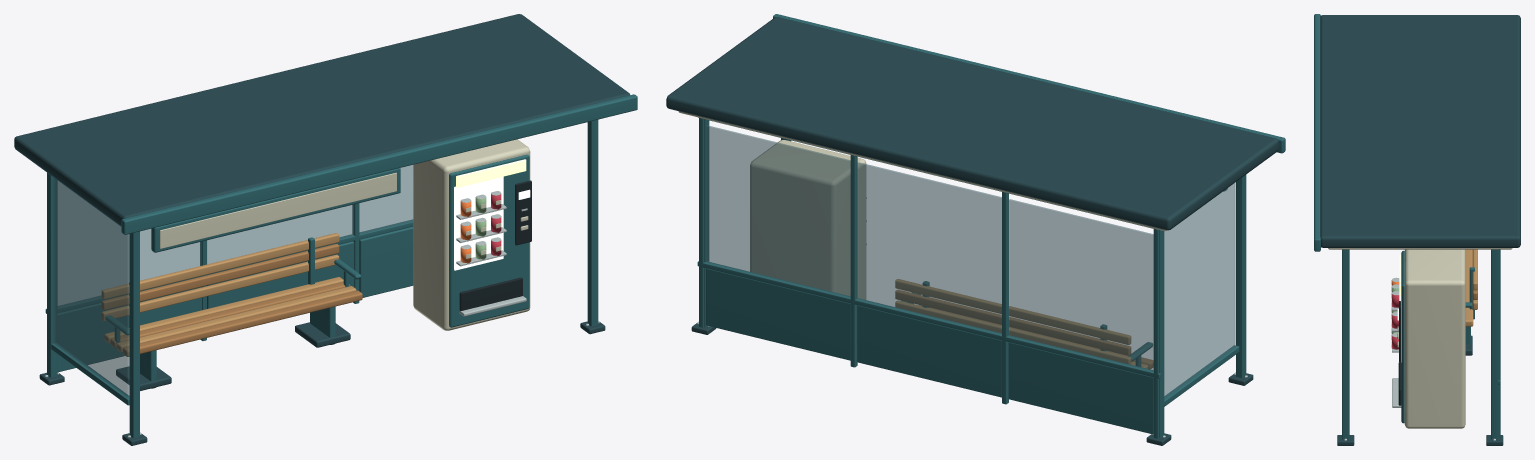
Rendered from shelter.glb.
3 views of the same model, side by side, from view 1: azimuth 30°, elevation 25°; view 2: azimuth 150°, elevation 25°; view 3: azimuth 270°, elevation 25° (orthographic). The views are drawn at different scales.
Visible parts, largest first — view 1: Floating roof cap, Left side smoked glass, Front gutter, Rear glass, Vending enamel cabinet, Vending teal fascia, Route sign cream face, Rear lower panel, Rear glass.001, Rear lower panel.002, Cedar seat slat.003, Steel column.003 (+19 smaller); view 2: Floating roof cap, Rear glass, Rear glass.001, Rear glass.002, Vending enamel cabinet, Left side smoked glass, Rear lower panel, Rear lower panel.002, Rear lower panel.001, Rear middle rail, Cedar back slat.002, Cedar back slat.001 (+11 smaller); view 3: Floating roof cap, Vending enamel cabinet, Front gutter, Steel column.003, Steel column.002, Vending teal fascia, Rear mullion.003, Cedar seat slat, Cream soffit, Cedar back slat.002, Collection lip.
Boxes of the visible parts, bbox=[...] form: Floating roof cap: bbox=[14, 14, 630, 226]; Left side smoked glass: bbox=[53, 177, 129, 397]; Front gutter: bbox=[121, 94, 637, 234]; Rear glass: bbox=[58, 181, 201, 307]; Vending enamel cabinet: bbox=[413, 139, 530, 330]; Vending teal fascia: bbox=[449, 154, 529, 327]; Route sign cream face: bbox=[160, 172, 396, 248]; Rear lower panel: bbox=[57, 287, 201, 372]; Rear glass.001: bbox=[207, 204, 354, 264]; Rear lower panel.002: bbox=[359, 226, 413, 297]; Cedar seat slat.003: bbox=[123, 290, 362, 356]; Steel column.003: bbox=[587, 119, 598, 326]; Floating roof cap: bbox=[666, 17, 1278, 230]; Rear glass: bbox=[1008, 199, 1153, 370]; Rear glass.001: bbox=[857, 162, 1001, 333]; Rear glass.002: bbox=[706, 125, 850, 296]; Vending enamel cabinet: bbox=[750, 140, 866, 299]; Left side smoked glass: bbox=[1164, 182, 1235, 398]; Rear lower panel: bbox=[1008, 342, 1153, 434]; Rear lower panel.002: bbox=[706, 268, 850, 360]; Rear lower panel.001: bbox=[857, 305, 1001, 397]; Rear middle rail: bbox=[697, 261, 1160, 378]; Cedar back slat.002: bbox=[895, 279, 1130, 344]; Cedar back slat.001: bbox=[895, 290, 1130, 355]; Floating roof cap: bbox=[1320, 15, 1520, 247]; Vending enamel cabinet: bbox=[1404, 249, 1465, 428]; Front gutter: bbox=[1314, 14, 1320, 251]; Steel column.003: bbox=[1342, 249, 1349, 439]; Steel column.002: bbox=[1491, 249, 1498, 439]; Vending teal fascia: bbox=[1401, 250, 1404, 423]; Rear mullion.003: bbox=[1498, 250, 1500, 438]; Cedar seat slat: bbox=[1465, 249, 1473, 326]; Cream soffit: bbox=[1328, 248, 1512, 249]; Cedar back slat.002: bbox=[1472, 249, 1477, 290]; Collection lip: bbox=[1392, 378, 1401, 407].
Size of the model in its own units: 7.18 by 3.21 by 2.78.
